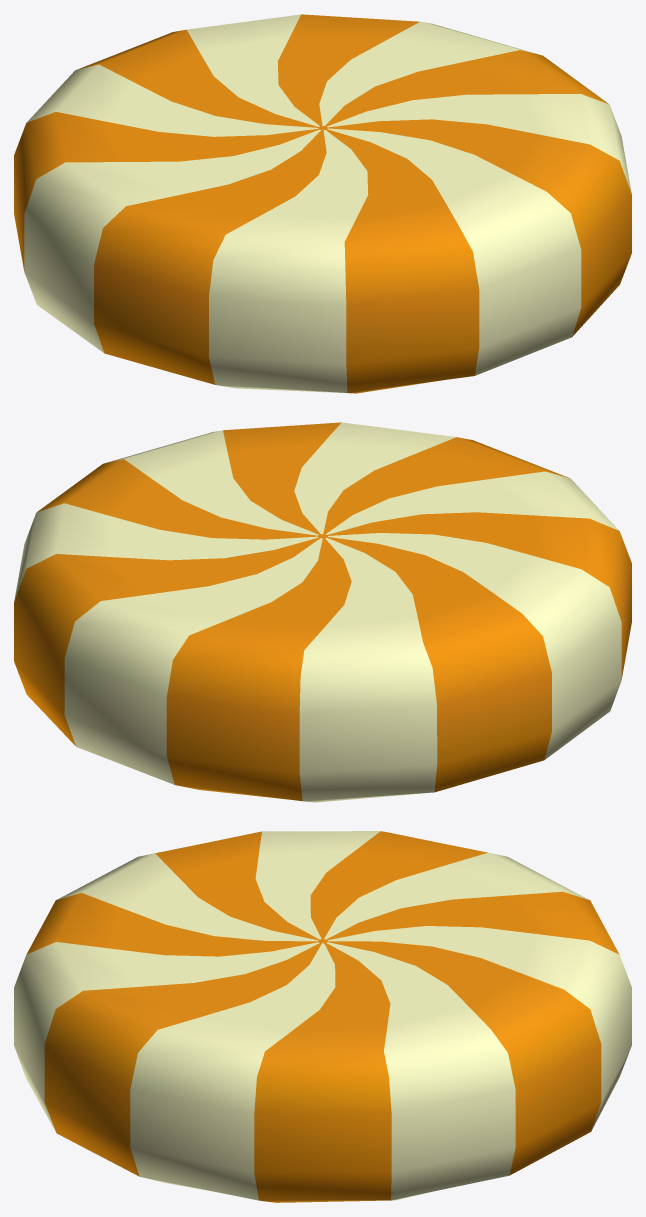
File: candy_hard_12.fbx
3 views of the same model, one above another, from view 1: azimuth 30°, elevation 25°; view 2: azimuth 150°, elevation 25°; view 3: azimuth 270°, elevation 25° (orthographic).
Parts seen in each view (by area): view 1: c_h_12; view 2: c_h_12; view 3: c_h_12.
Part boxes in pixels (<box>): c_h_12: <box>14,14,631,393</box>; c_h_12: <box>14,422,631,802</box>; c_h_12: <box>14,831,631,1202</box>.
Bounding box in the file's own units: 156 × 42.99 × 160.
